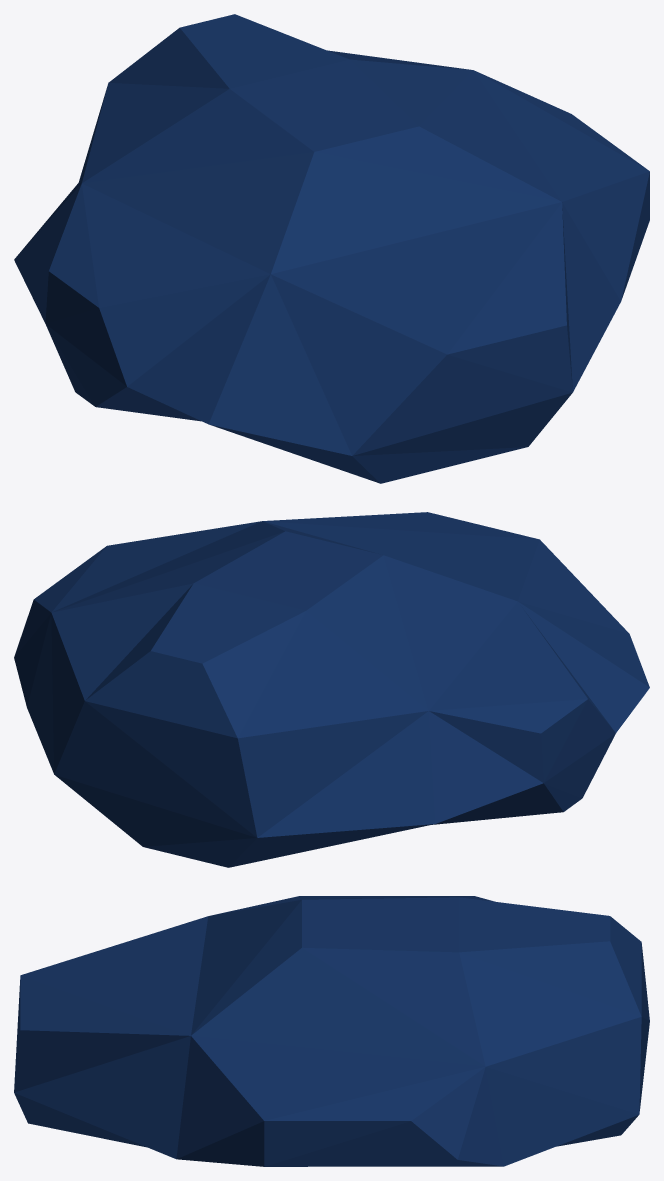
File: Cave_stone_1.glb
3 views of the same model, one above another, from view 1: azimuth 30°, elevation 25°; view 2: azimuth 150°, elevation 25°; view 3: azimuth 270°, elevation 25° (orthographic). The views are drawn at different scales.
Visible parts, largest first — view 1: Cave_stone_01; view 2: Cave_stone_01; view 3: Cave_stone_01.
Boxes of the visible parts, box(x1,y1,x2,y2) form: Cave_stone_01: box(14, 14, 649, 483); Cave_stone_01: box(14, 512, 649, 867); Cave_stone_01: box(14, 896, 649, 1166).
Size of the model in its own units: 0.3852 by 0.1501 by 0.4219.
